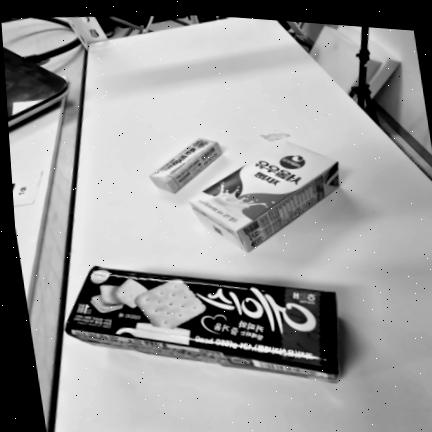cracker_ace: (65, 267, 340, 382)
gum_yellow: (150, 138, 222, 193)
milk_blue: (190, 142, 339, 252)
